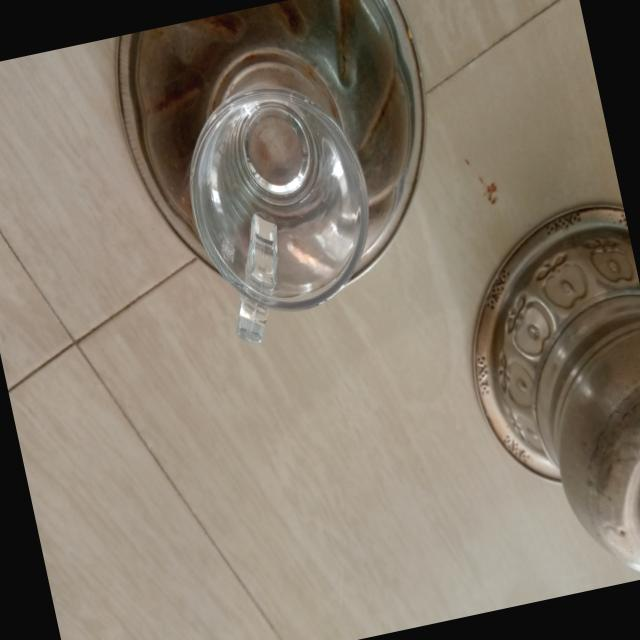glass-VX4N: (154, 41, 400, 361)
